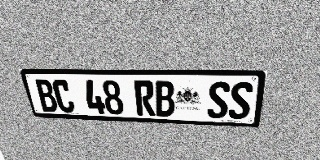4: (82, 80, 106, 114)
8: (101, 80, 124, 115)
B: (33, 79, 59, 112), (154, 81, 175, 117)
C: (51, 79, 76, 113)
R: (134, 80, 155, 116)
S: (228, 82, 254, 120), (207, 81, 231, 119)
